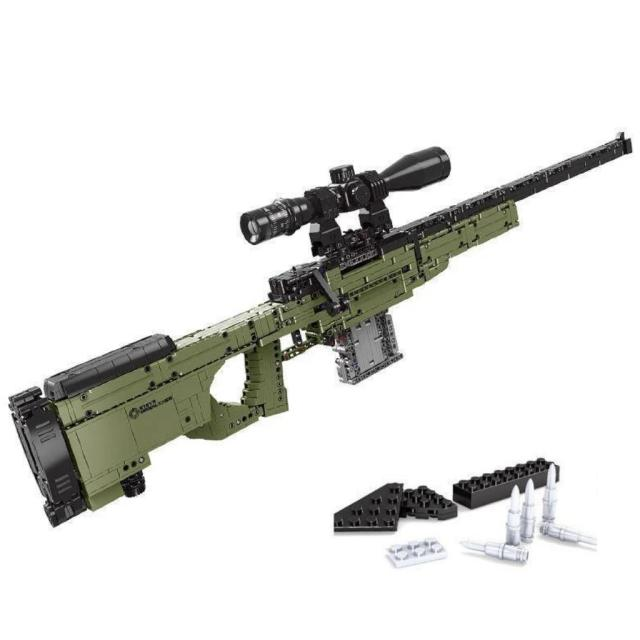Rifle: (11, 133, 634, 528)
